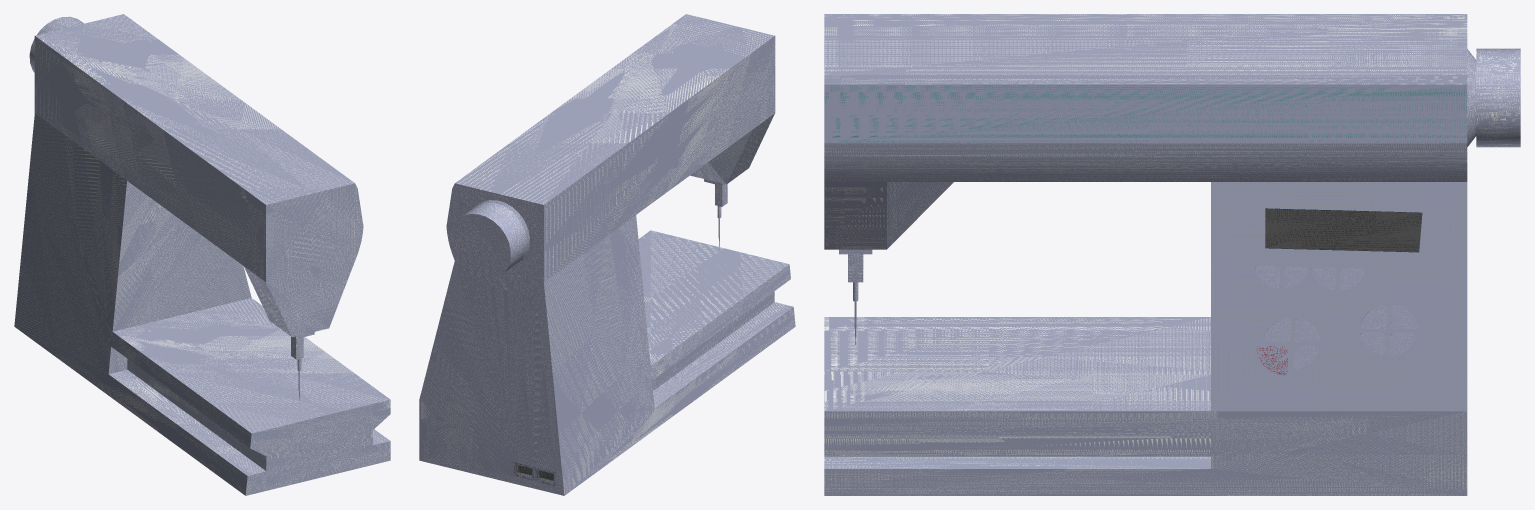
The model's file is SewingMachine.fbx.
The picture shows the model from 3 angles, left to right: view 1: azimuth 30°, elevation 25°; view 2: azimuth 150°, elevation 25°; view 3: azimuth 270°, elevation 25°; orthographic projection. The views are drawn at different scales.
Parts seen in each view (by area): view 1: Group_55_1; view 2: Group_55_1; view 3: Group_55_1, Group1.
Boxes of the visible parts, x1=… form: Group_55_1: x1=14, y1=14, x2=390, y2=495; Group_55_1: x1=419, y1=14, x2=795, y2=495; Group_55_1: x1=824, y1=14, x2=1520, y2=495; Group1: x1=1265, y1=208, x2=1422, y2=252.
Bounding box in the file's own units: 0.1817 × 0.3424 × 0.5434.
